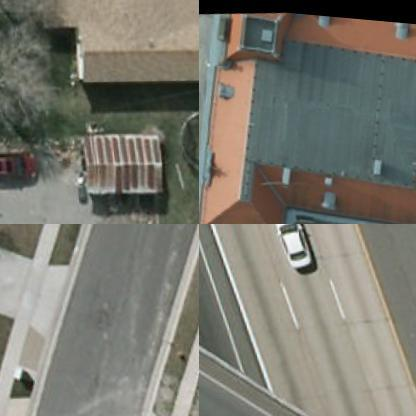car: (273, 224, 322, 270), (0, 142, 45, 187)
